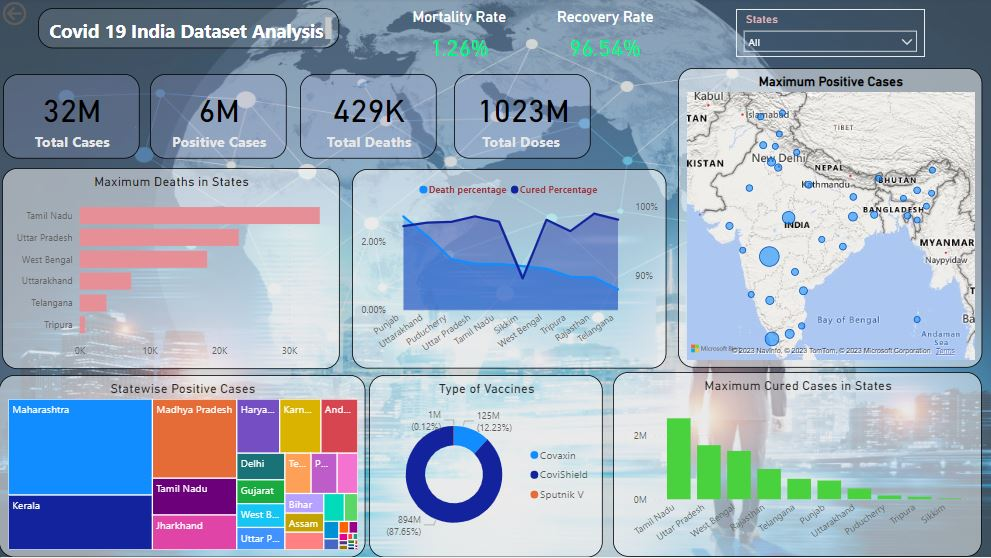

What the dashboard file says about the page in this screenshot:
{"tool":"powerbi","page":{"name":"Page 1","canvas":[1280,720],"ordinal":0},"visuals":[{"type":"textbox","box":[50.4,13.4,388,52.1],"z":0},{"type":"card","fields":{"Values":["Sum(CureDeath.Deaths)"]},"box":[388,97.4,176.4,109.2],"z":1000},{"type":"card","fields":{"Values":["Sum(VaccineDoses.Total Doses Administered)"]},"box":[586.2,97.4,176.4,109.2],"z":2000},{"type":"barChart","title":"Maximum Deaths in States","fields":{"Category":["CureDeath.States"],"Y":["Sum(CureDeath.Deaths)"]},"box":[3.4,218.4,435.1,258.7],"z":3000},{"type":"map","title":"Maximum Positive Cases","fields":{"Category":["CureDeath.States"],"Size":["Max(samples.Positive)"]},"box":[874.2,90.5,391.8,386.2],"z":4000},{"type":"actionButton","box":[0,0,100,40],"z":5000},{"type":"lineStackedColumnComboChart","title":"Maximum Cured Cases in States","fields":{"Category":["CureDeath.States"],"Y":["Sum(CureDeath.Cured)"]},"box":[790.7,482.4,475.3,237.6],"z":6000},{"type":"donutChart","title":"Type of Vaccines","fields":{"Y":["Sum(VaccineDoses.Covaxin (Doses Administered))","Sum(VaccineDoses.CoviShield (Doses Administered))","Sum(VaccineDoses.Sputnik V (Doses Administered))"]},"box":[476.7,485.2,301.3,234.8],"z":7000},{"type":"treemap","title":"Statewise Positive Cases","fields":{"Group":["CureDeath.States"],"Values":["Sum(samples.Positive)"]},"box":[0,485.5,472,235.2],"z":8000},{"type":"card","fields":{"Values":["Sum(CureDeath.Confirmed)"]},"box":[5,97.4,176.4,109.2],"z":9000},{"type":"card","fields":{"Values":["Sum(samples.Positive)"]},"box":[194.9,97.4,176.4,109.2],"z":10000},{"type":"slicer","fields":{"Values":["CureDeath.States"]},"box":[949.2,14.1,243.3,62.2],"z":11000},{"type":"areaChart","title":"States","fields":{"Category":["CureDeath.States"],"Y":["Sum(CureDeath.Death percentage)"],"Y2":["Sum(CureDeath.Cured Percentage)"]},"box":[455.2,220.1,404.8,257],"z":12000},{"type":"card","title":"Mortality Rate","fields":{"Values":["Avg(CureDeath.Death percentage)"]},"box":[492.2,13.4,201.6,77.3],"z":13000},{"type":"card","title":"Recovery Rate","fields":{"Values":["Avg(CureDeath.Cured Percentage)"]},"box":[693.8,13.4,173,77.3],"z":14000}]}

Visuals, with their boxes in screenshot pixels (x1, y1, x2, y2), scaled from the page's 1280x720 canvas onto the 991x558 screenshot:
textbox: l=39, t=10, r=339, b=51
card - Sum(CureDeath.Deaths): l=300, t=75, r=437, b=160
card - Sum(VaccineDoses.Total Doses Administered): l=454, t=75, r=590, b=160
"Maximum Deaths in States" barChart: l=3, t=169, r=339, b=370
"Maximum Positive Cases" map: l=677, t=70, r=980, b=369
actionButton: l=0, t=0, r=77, b=31
"Maximum Cured Cases in States" lineStackedColumnComboChart: l=612, t=374, r=980, b=557
"Type of Vaccines" donutChart: l=369, t=376, r=602, b=557
"Statewise Positive Cases" treemap: l=0, t=376, r=365, b=557
card - Sum(CureDeath.Confirmed): l=4, t=75, r=140, b=160
card - Sum(samples.Positive): l=151, t=75, r=287, b=160
slicer - CureDeath.States: l=735, t=11, r=923, b=59
"States" areaChart: l=352, t=171, r=666, b=370
"Mortality Rate" card: l=381, t=10, r=537, b=70
"Recovery Rate" card: l=537, t=10, r=671, b=70
